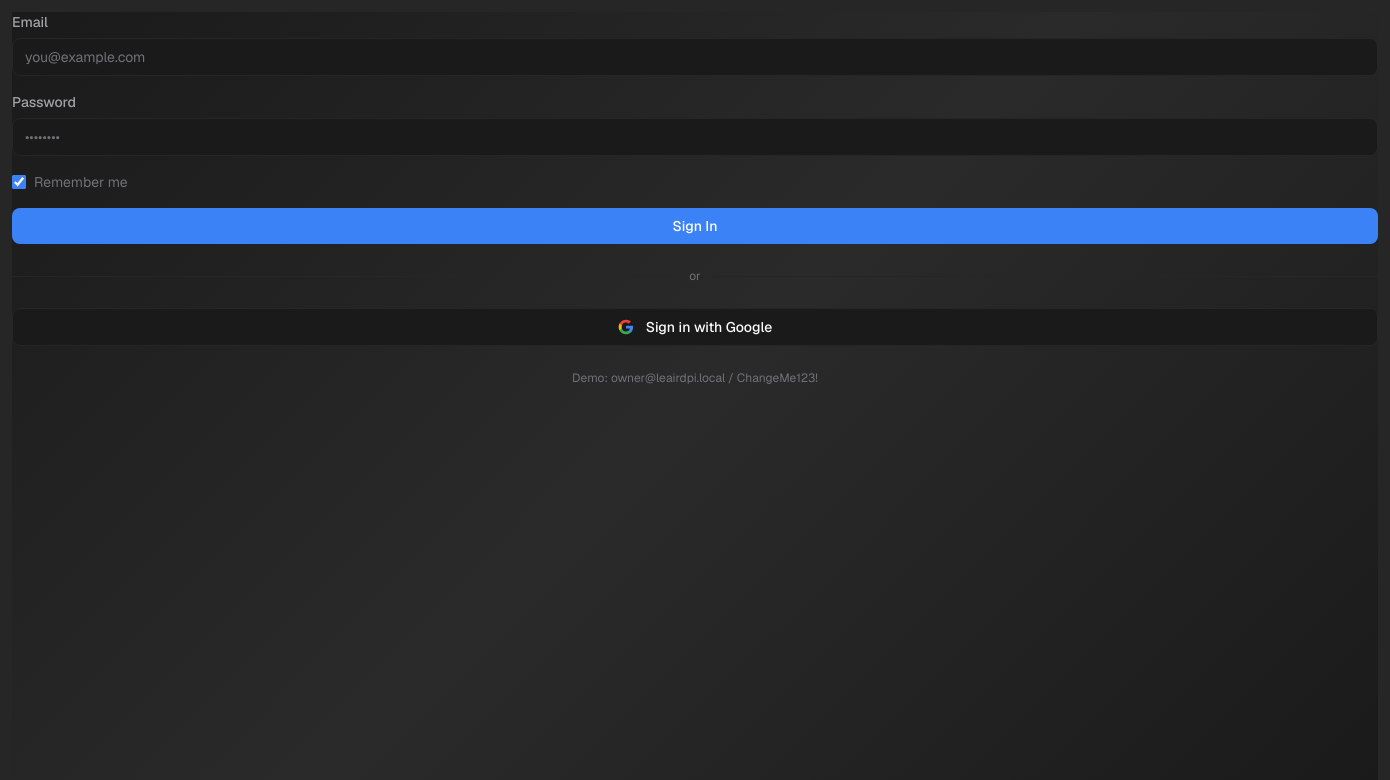
Test case: LoginForm › shows error for failed login
Step 1. Type "bad@test.com" into the field labelled "Email" → [695, 57], box [12,38,1378,76]
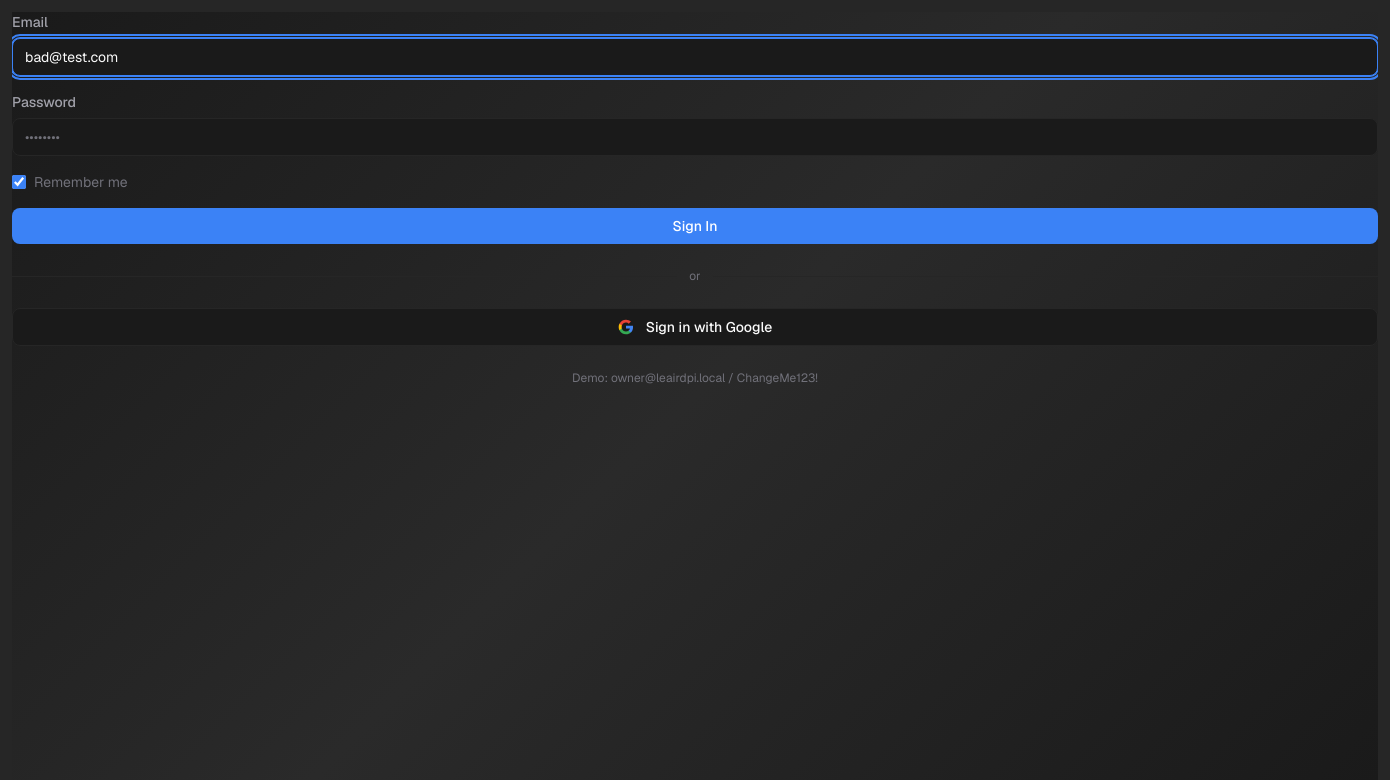
Step 2. Type "wrong" into the password field labelled "Password" → [695, 137], box [12,118,1378,156]
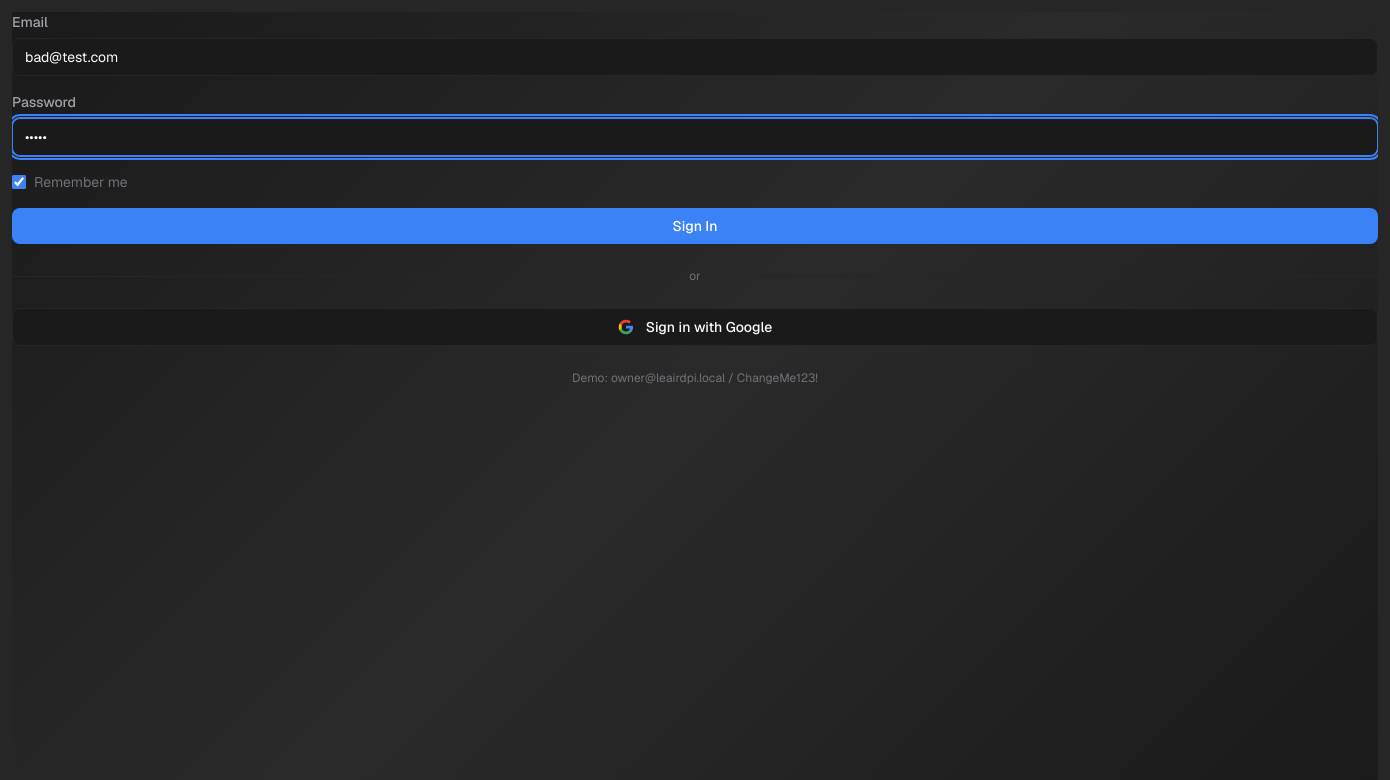
Step 3. Click the button "Sign In" → [695, 226], box [12,208,1378,244]
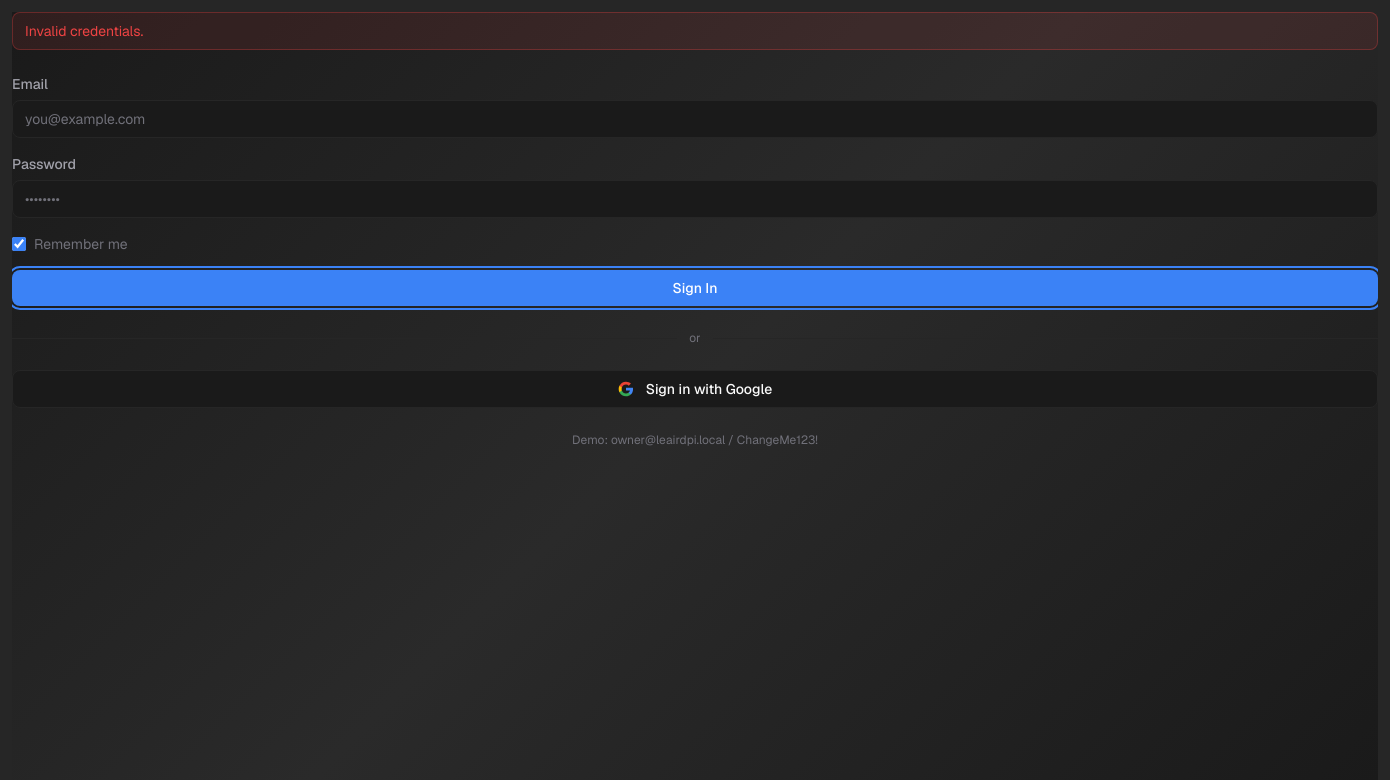
Check: the text "Invalid credentials." is shown, box [12,12,1378,50]
